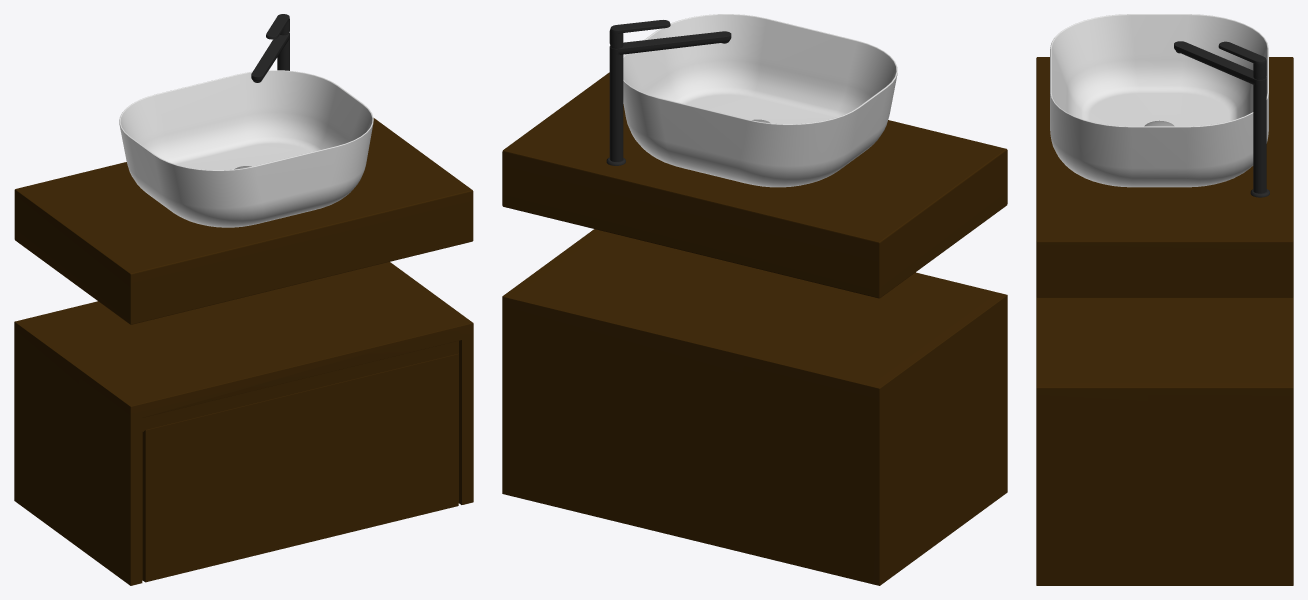
File: Bath03Commode.fbx
3 renders of one model, left to right at view 1: azimuth 30°, elevation 25°; view 2: azimuth 150°, elevation 25°; view 3: azimuth 270°, elevation 25°, orthographic. The views are drawn at different scales.
Parts seen in each view (by area): view 1: CommodeLower, CommodeUpper, Basin, Tap2; view 2: CommodeLower, CommodeUpper, Basin, Tap2; view 3: CommodeLower, CommodeUpper, Basin, Tap2.
Part boxes in pixels (<box>): CommodeLower: <box>14,262,473,585</box>; CommodeUpper: <box>14,118,473,324</box>; Basin: <box>119,70,373,227</box>; Tap2: <box>251,14,289,82</box>; CommodeLower: <box>502,229,1007,585</box>; CommodeUpper: <box>502,72,1007,298</box>; Basin: <box>623,14,897,187</box>; Tap2: <box>609,20,731,161</box>; CommodeLower: <box>1036,297,1293,585</box>; CommodeUpper: <box>1036,57,1293,297</box>; Basin: <box>1050,14,1268,187</box>; Tap2: <box>1174,41,1266,193</box>.
Size of the model in its own units: 80 by 96.69 by 47.
